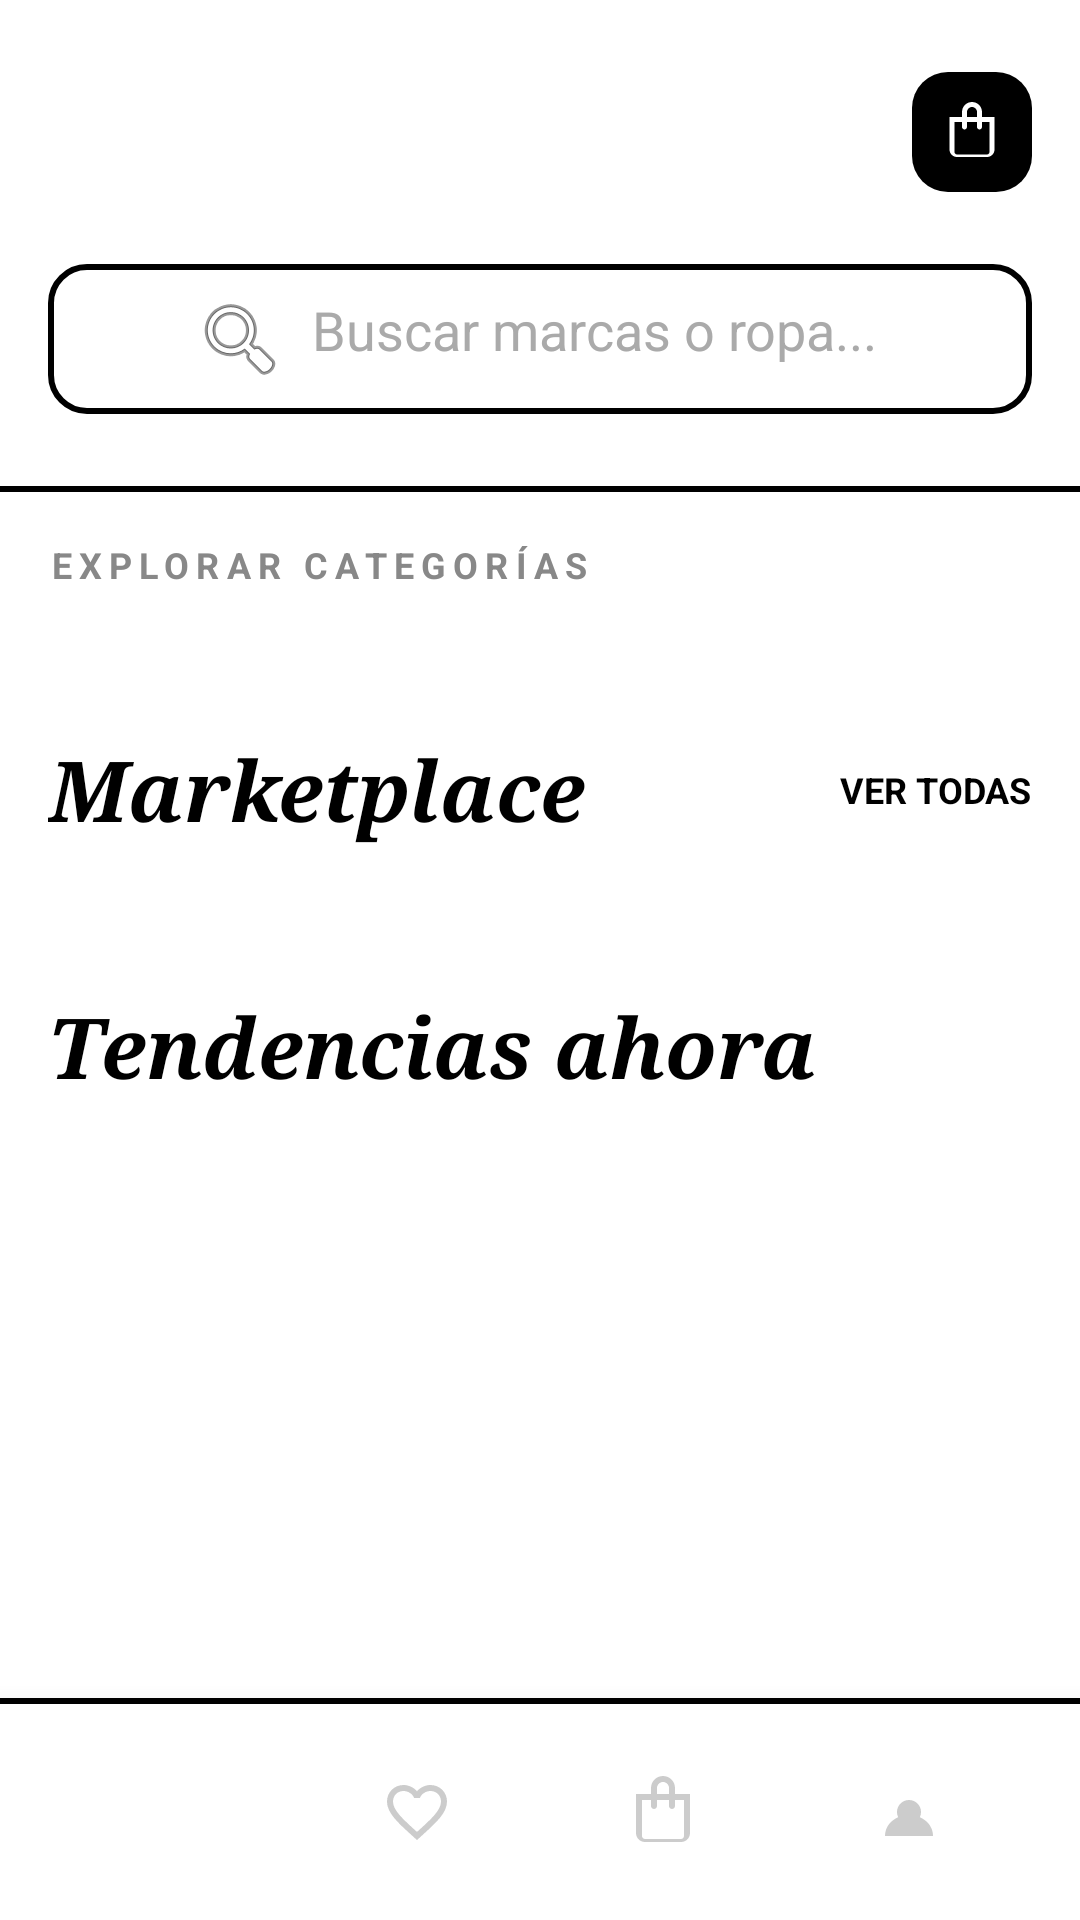

Point at icon controls on the screen. Image size 1080x1920, points as (x=x, y=y).
bag: (x=972, y=132), (x=663, y=1809)
heart: (x=417, y=1812)
person: (x=909, y=1818)
